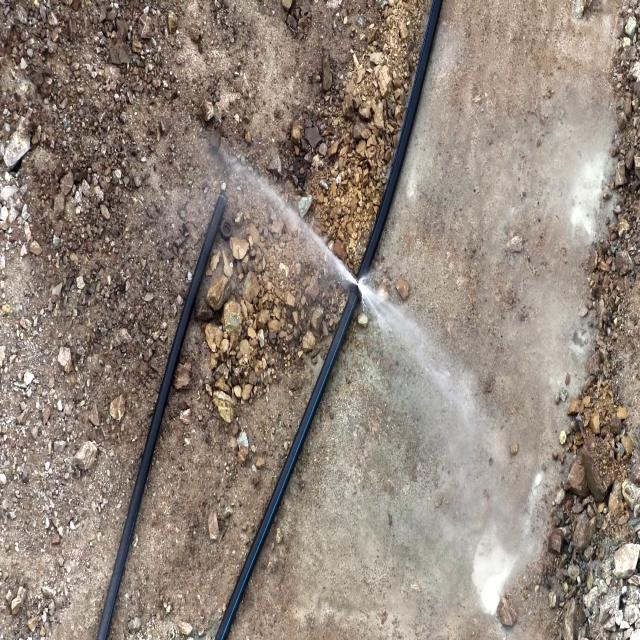leak: (230, 156, 407, 335)
